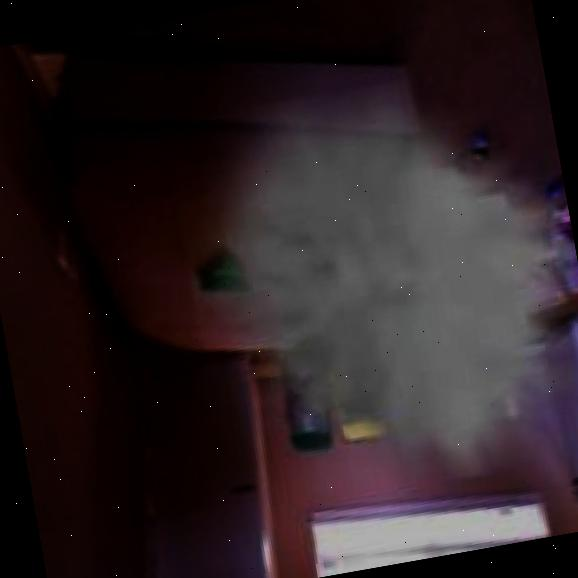smoke: (160, 52, 578, 519)
